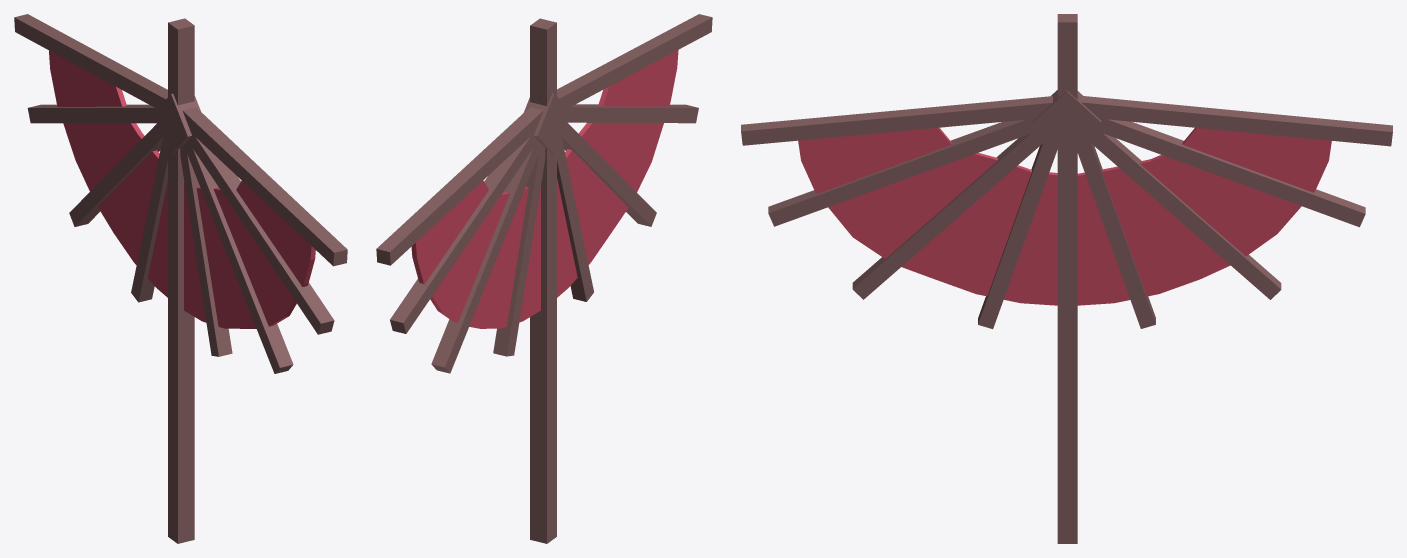
The model's file is glider.fbx.
3 views of the same model, side by side, from view 1: azimuth 30°, elevation 25°; view 2: azimuth 150°, elevation 25°; view 3: azimuth 270°, elevation 25° (orthographic).
Visible parts, largest first — view 1: Cylinder, Cube, Cube.007, Cube.006, Cube.002, Cube.005, Cube.008, Cube.003, Cube.004, Cube.001, Cube.009; view 2: Cylinder, Cube, Cube.002, Cube.003, Cube.007, Cube.004, Cube.001, Cube.006, Cube.005, Cube.008, Cube.009; view 3: Cylinder, Cube, Cube.007, Cube.002, Cube.003, Cube.006, Cube.004, Cube.005, Cube.001, Cube.008, Cube.009.
Boxes of the visible parts, x1,y1,x2,y2 form: Cylinder: [49, 50, 315, 328]; Cube: [168, 18, 194, 543]; Cube.007: [182, 107, 347, 266]; Cube.006: [189, 128, 334, 334]; Cube.002: [14, 14, 167, 107]; Cube.005: [185, 139, 293, 373]; Cube.008: [180, 143, 232, 356]; Cube.003: [27, 104, 158, 123]; Cube.004: [69, 122, 163, 226]; Cube.001: [131, 136, 167, 302]; Cube.009: [154, 93, 200, 154]; Cylinder: [411, 50, 678, 328]; Cube: [530, 18, 556, 543]; Cube.002: [376, 107, 543, 265]; Cube.003: [390, 133, 536, 333]; Cube.007: [557, 14, 712, 107]; Cube.004: [431, 139, 541, 373]; Cube.001: [493, 145, 545, 356]; Cube.006: [567, 104, 698, 123]; Cube.005: [561, 122, 656, 226]; Cube.008: [557, 136, 593, 301]; Cube.009: [523, 93, 570, 154]; Cylinder: [798, 127, 1331, 305]; Cube: [1057, 14, 1077, 543]; Cube.007: [741, 96, 1052, 145]; Cube.002: [1081, 95, 1392, 146]; Cube.003: [1093, 115, 1365, 227]; Cube.006: [768, 116, 1040, 226]; Cube.004: [1087, 127, 1281, 299]; Cube.005: [852, 130, 1049, 299]; Cube.001: [1077, 135, 1155, 328]; Cube.008: [978, 137, 1057, 329]; Cube.009: [1033, 90, 1101, 152].
Size of the model in its own units: 45.67 by 1064 by 1205.
